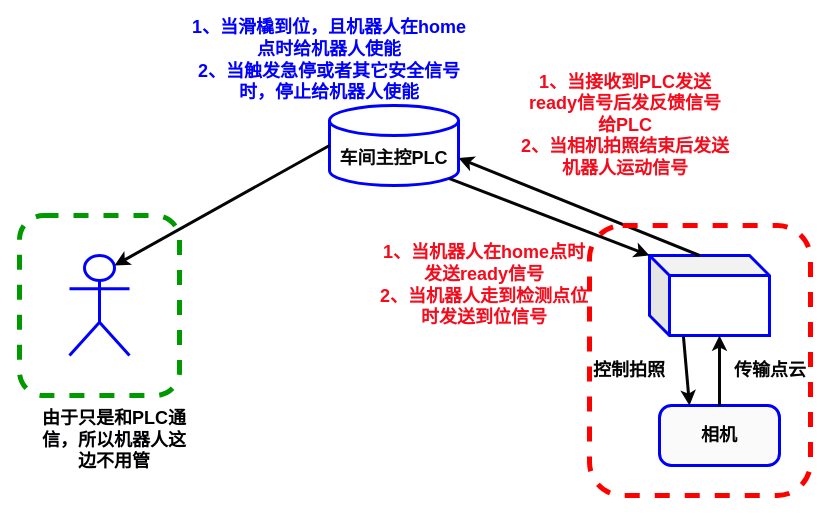
This 830x515 diagram has some shape labels left out. Each missing label, with the centre of its shape:
上位机: (709,295)
机器人: (99,305)
